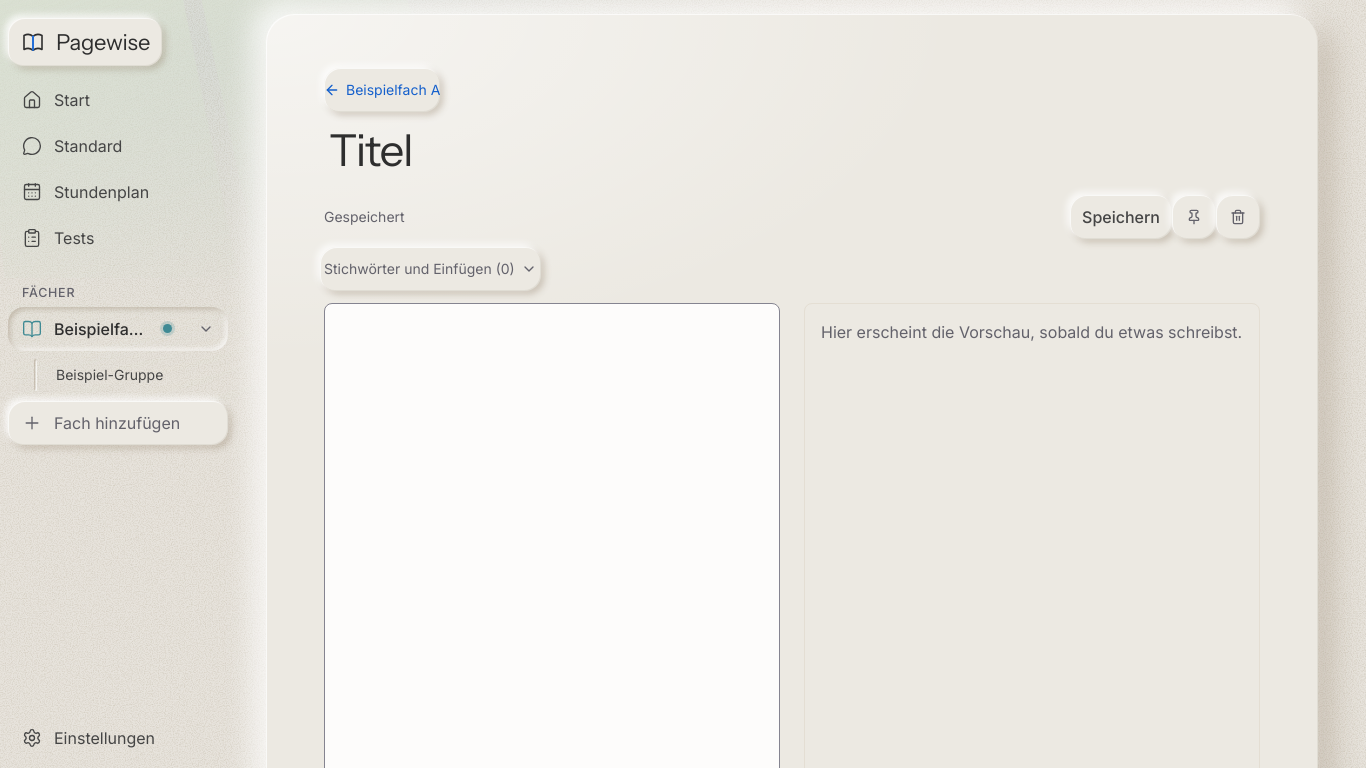
Scenario: Editor › Titelfeld: Enter erzeugt keinen Zeilenumbruch und 120 Zeichen bleiben erlaubt (notes#03)
The width and height of the screenshot is (1366, 768).
// Enter fügt keinen Zeilenumbruch ein (Auto-Höhe wäre sonst dauerhaft zweizeilig)
Type "Erste Zeile" into the 1st text box named "Titel". click: (792, 150)
box: top-left (324, 120), bottom-right (1260, 181)
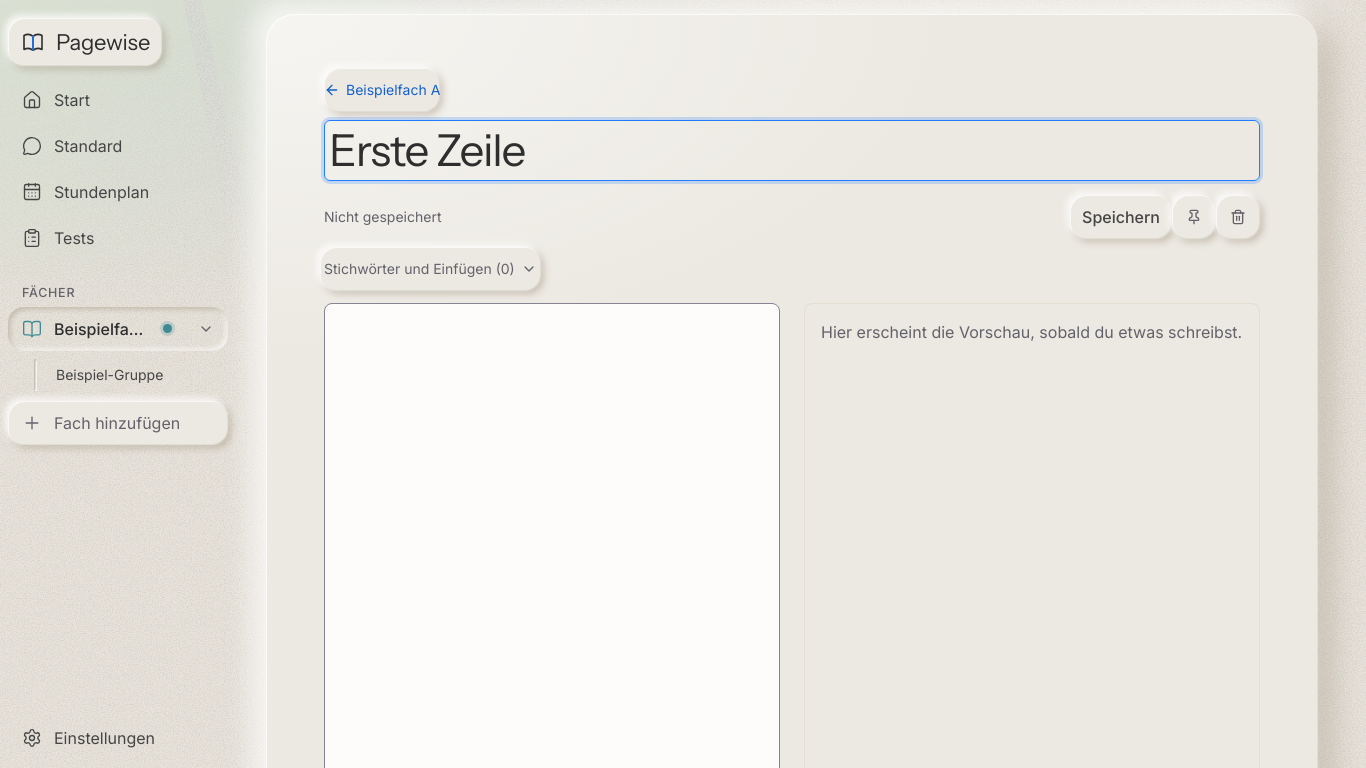
Press Enter
Type "Zweite Zeile" into the 1st text box named "Titel". click: (792, 150)
box: top-left (324, 120), bottom-right (1260, 181)
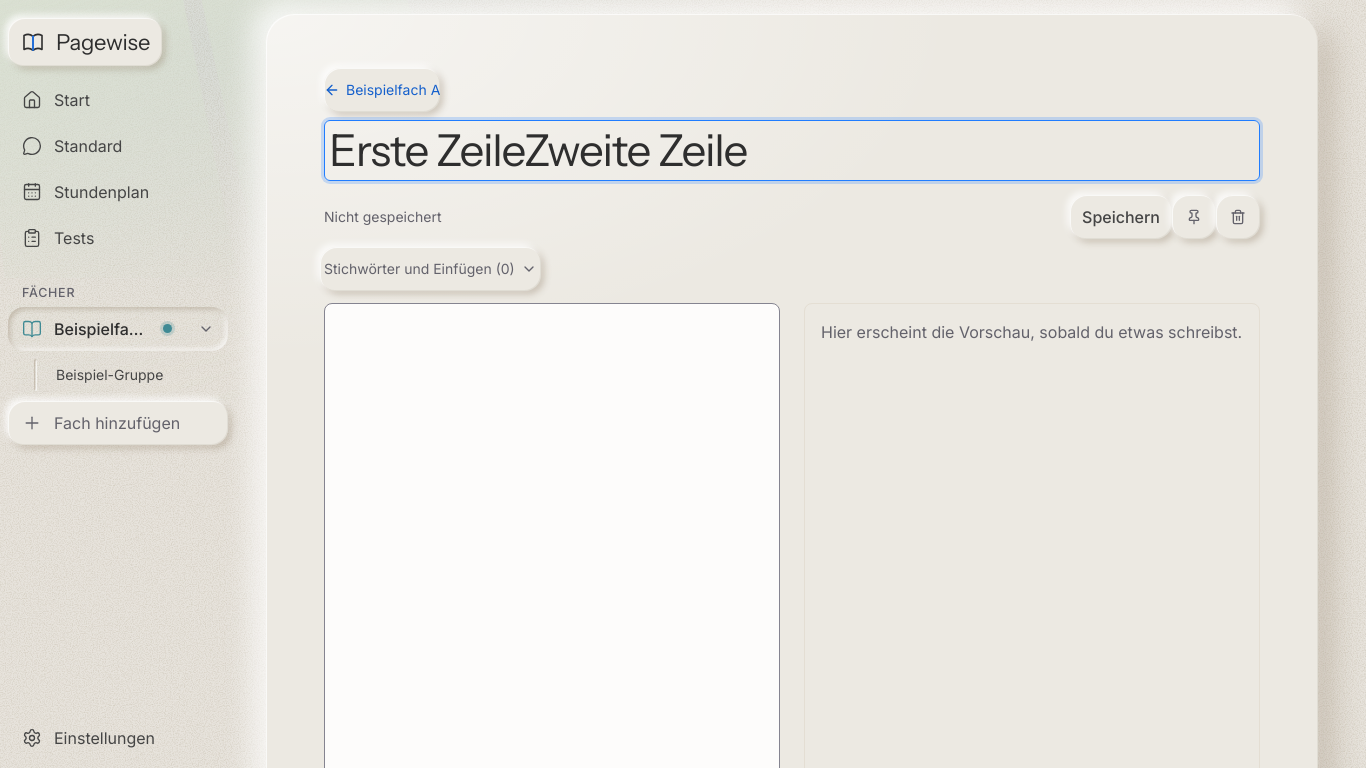
Expected: the 1st text box named "Titel" holds "Erste ZeileZweite Zeile", top-left (324, 120), bottom-right (1260, 181)
